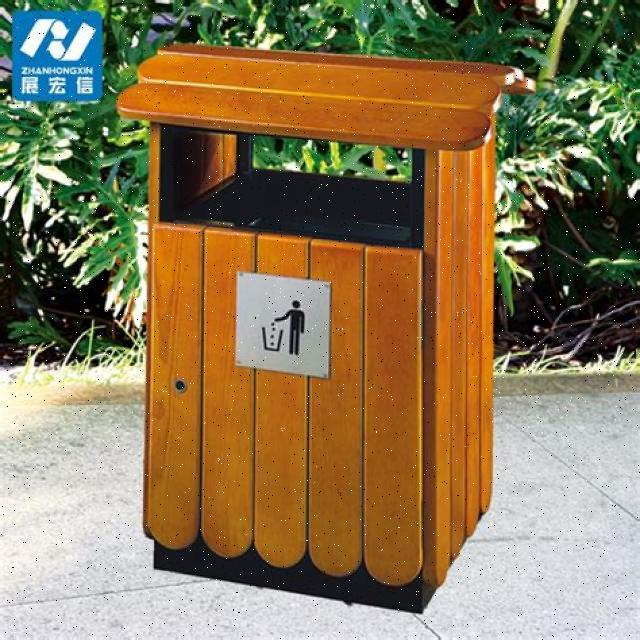garbage container: (110, 30, 522, 605)
